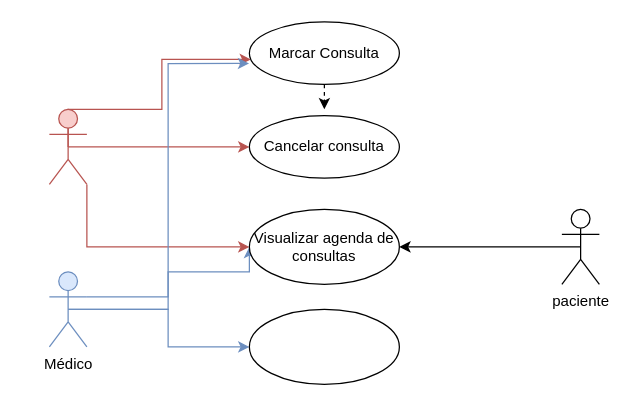
This 630x406 diagram has some shape labels left out. Here are the shapes that lost their labels. From the top down, the centre of each, then its label:
At [67,146]: "Administrador".
At [323,346]: "Gerar relatório de consultas".
